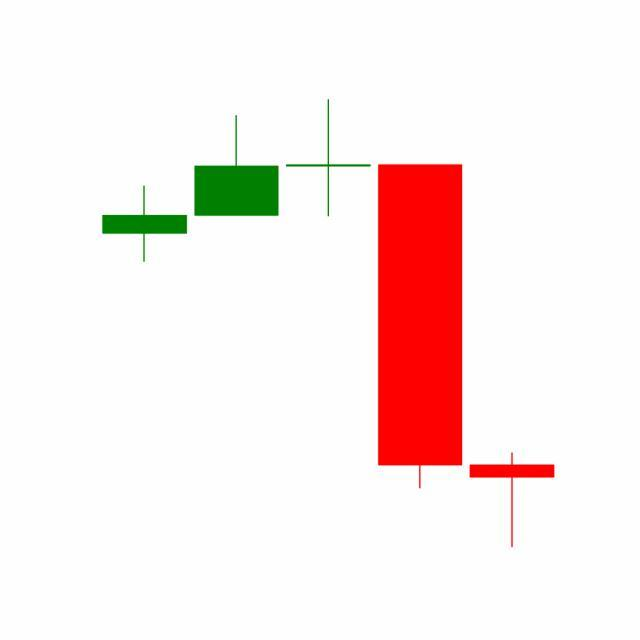Dragonfly Doji: (466, 452, 559, 550)
